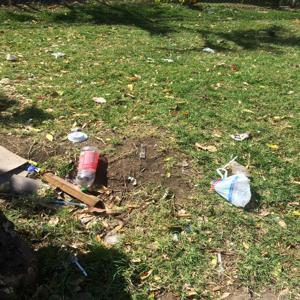plastic: (206, 165, 259, 211), (60, 125, 92, 144)
plastic bottle: (72, 143, 105, 199)
